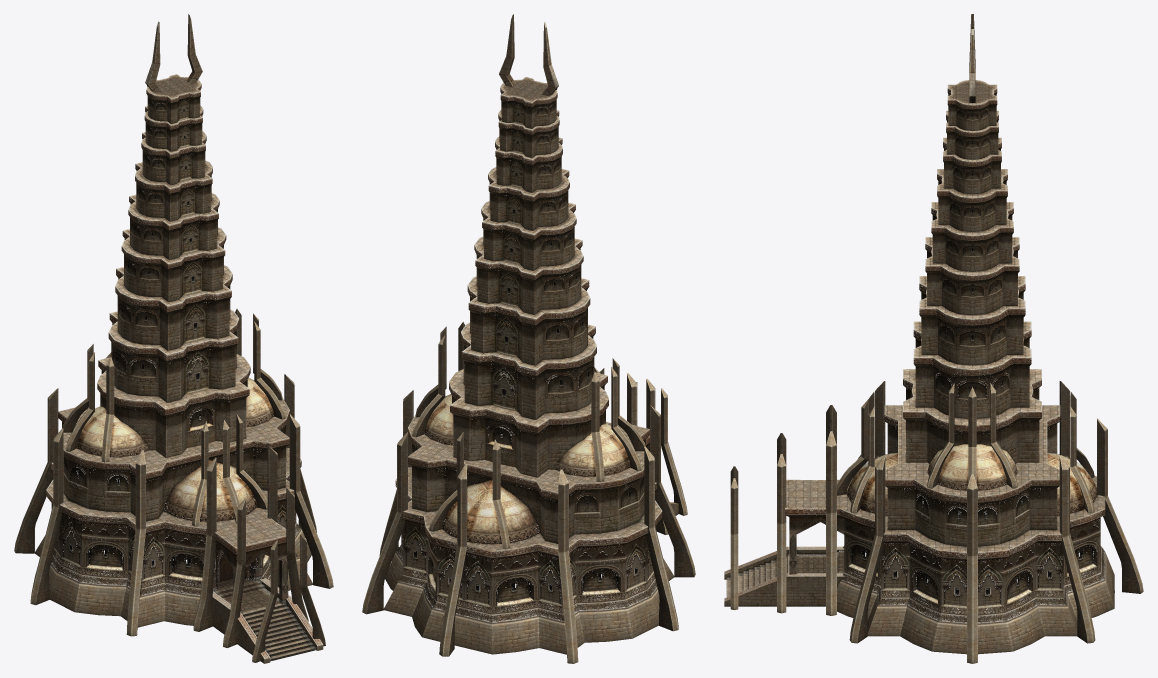
File: smh_dungeongate.glb
The picture shows the model from 3 angles, left to right: view 1: azimuth 30°, elevation 25°; view 2: azimuth 150°, elevation 25°; view 3: azimuth 270°, elevation 25°; orthographic projection. The views are drawn at different scales.
Parts seen in each view (by area): view 1: K01; view 2: K01; view 3: K01.
Part boxes in pixels (left/top/right/bottom): K01: left=14, top=14, right=333, bottom=663; K01: left=362, top=14, right=695, bottom=663; K01: left=724, top=14, right=1143, bottom=663.
Size of the model in its own units: 65.69 by 121 by 80.48.
4 materials, 4 textured.
